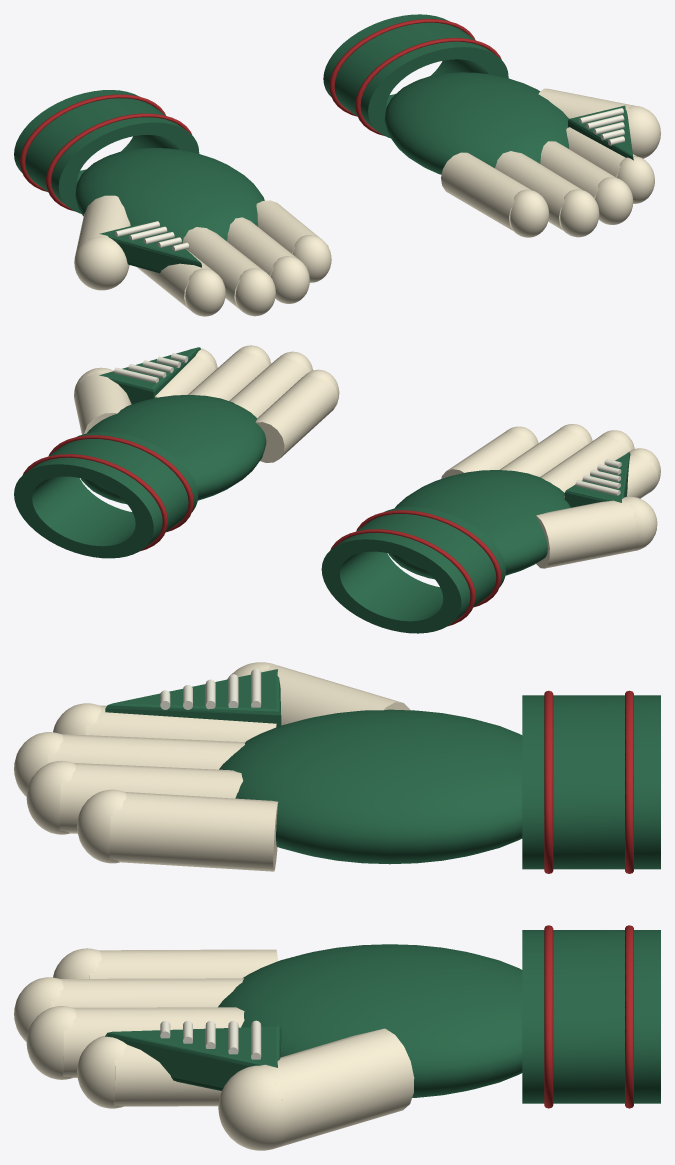
File: cricket-ground-and-pavilion-wicketkeeping-glove-pair-1dbc1664__31317.glb
3 renders of one model, top to bottom at view 1: azimuth 30°, elevation 25°; view 2: azimuth 150°, elevation 25°; view 3: azimuth 270°, elevation 25°, orthographic. The views are drawn at different scales.
Parts seen in each view (by area): view 1: wicketkeeping-glove-pair; view 2: wicketkeeping-glove-pair; view 3: wicketkeeping-glove-pair.
Boxes of the visible parts, bbox=[...] form: wicketkeeping-glove-pair: bbox=[14, 14, 660, 316]; wicketkeeping-glove-pair: bbox=[14, 345, 660, 633]; wicketkeeping-glove-pair: bbox=[14, 662, 660, 1150].
Bounding box in the file's own units: 0.412 × 0.0634 × 0.2565.
